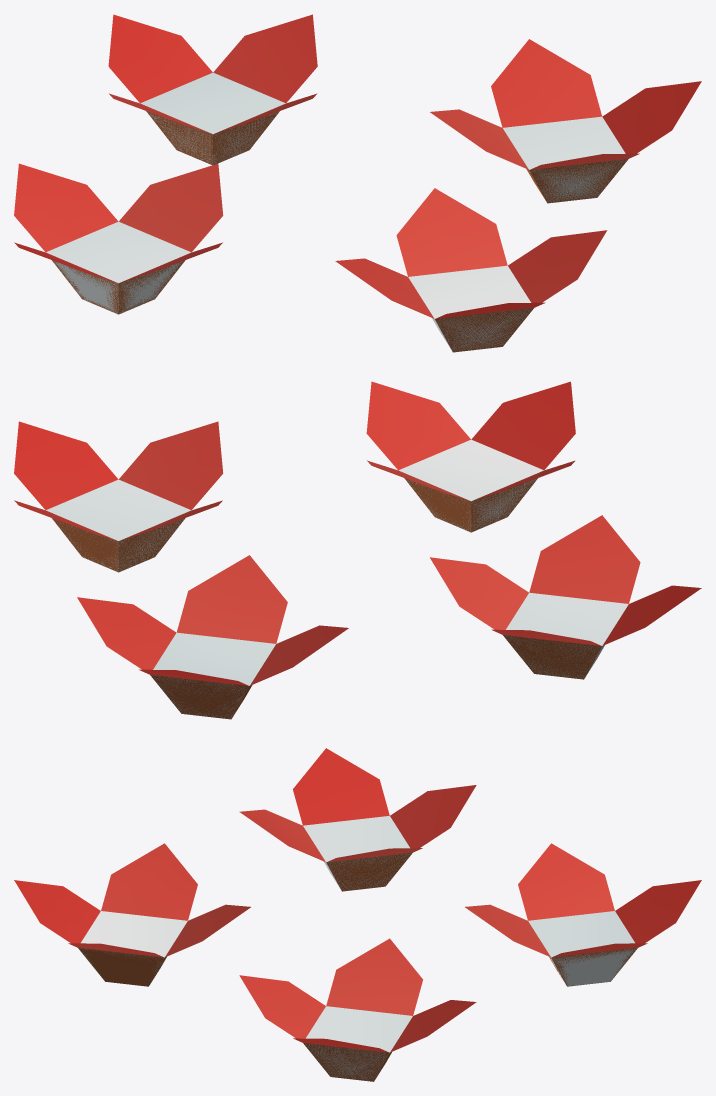
File: flowersLow.glb
3 renders of one model, top to bottom at view 1: azimuth 30°, elevation 25°; view 2: azimuth 150°, elevation 25°; view 3: azimuth 270°, elevation 25°, orthographic. The views are drawn at different scales.
Parts seen in each view (by area): view 1: flowersLow; view 2: flowersLow; view 3: flowersLow.
Part boxes in pixels (x1=…): flowersLow: x1=14, y1=14, x2=701, y2=352; flowersLow: x1=14, y1=381, x2=701, y2=719; flowersLow: x1=14, y1=748, x2=701, y2=1081.
Bounding box in the file's own units: 0.7639 × 0.1 × 0.7639.
Materials: 1 (1 with a texture image).
